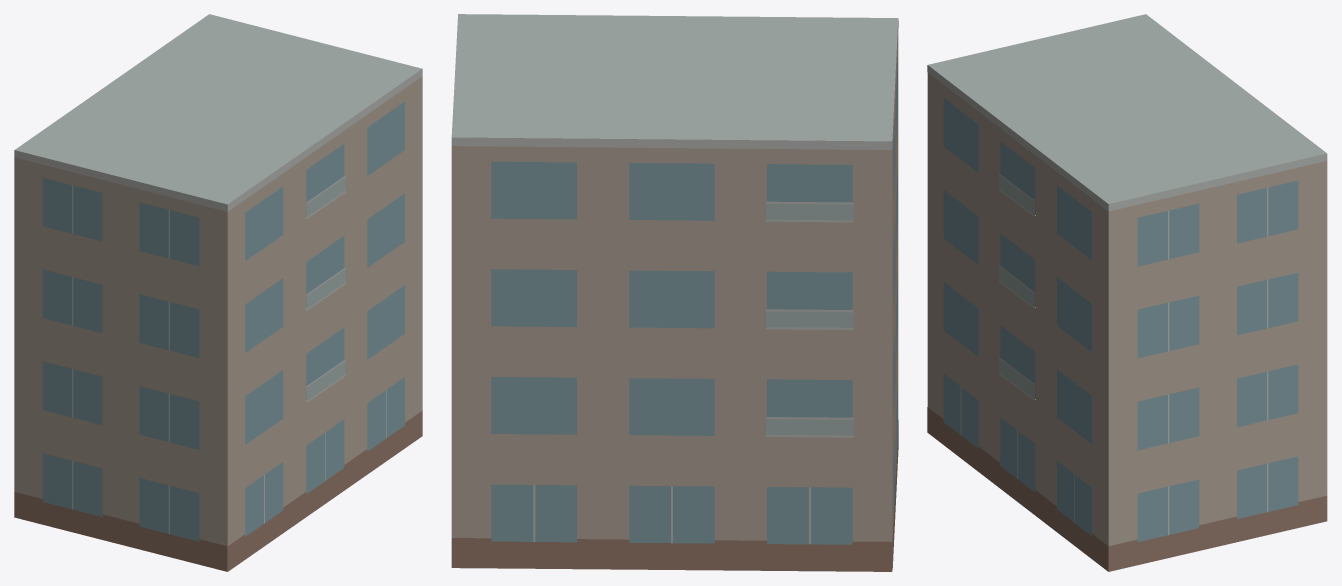
File: residential-d0d3d920-06ce-4918-a9c7-c6211ced4b5c.glb
3 renders of one model, left to right at view 1: azimuth 30°, elevation 25°; view 2: azimuth 150°, elevation 25°; view 3: azimuth 270°, elevation 25°, orthographic. The views are drawn at different scales.
Visible parts, largest first — view 1: residential-d0d3d920-06ce-4918-a9c7-c6211ced4b5c.tmp; view 2: residential-d0d3d920-06ce-4918-a9c7-c6211ced4b5c.tmp; view 3: residential-d0d3d920-06ce-4918-a9c7-c6211ced4b5c.tmp.
Part boxes in pixels (left/top/right/bottom): residential-d0d3d920-06ce-4918-a9c7-c6211ced4b5c.tmp: left=14, top=14, right=422, bottom=571; residential-d0d3d920-06ce-4918-a9c7-c6211ced4b5c.tmp: left=451, top=14, right=898, bottom=571; residential-d0d3d920-06ce-4918-a9c7-c6211ced4b5c.tmp: left=927, top=14, right=1327, bottom=571.
Bounding box in the file's own units: 13.54 × 12.2 × 12.03.
